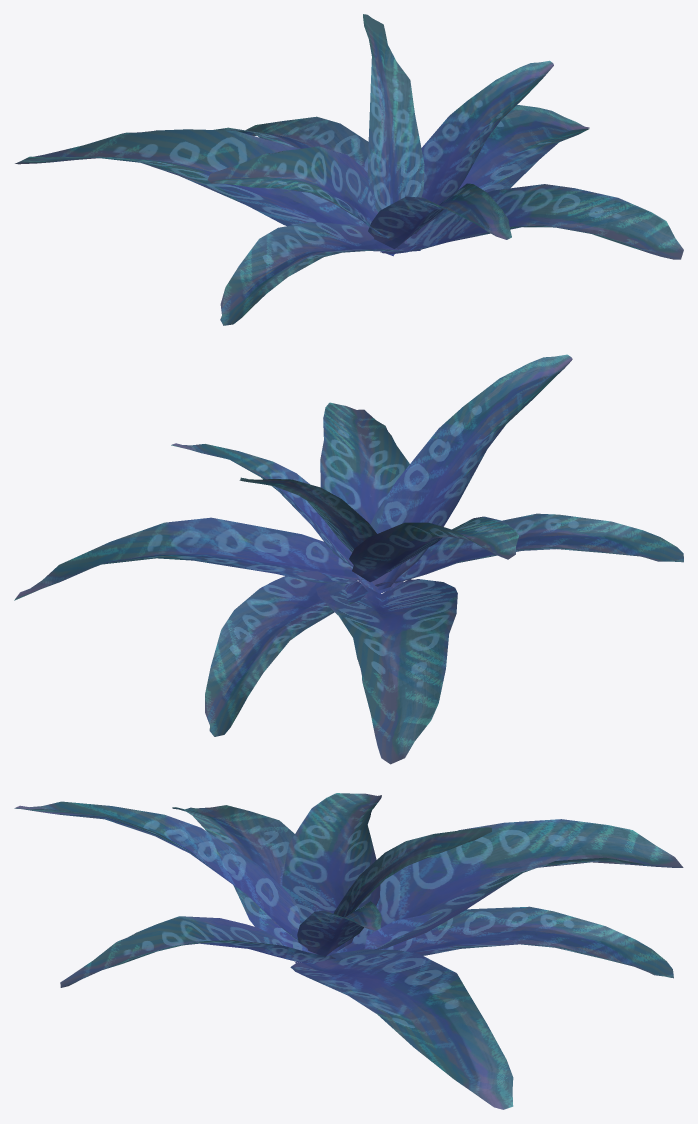
The model's file is touffe_bleu2.fbx.
3 views of the same model, one above another, from view 1: azimuth 30°, elevation 25°; view 2: azimuth 150°, elevation 25°; view 3: azimuth 270°, elevation 25° (orthographic). The views are drawn at different scales.
Visible parts, largest first — view 1: Plane.049, Plane.052, Plane.057, Plane.051, Plane.054, Plane.056, Plane.050, Plane.053, Plane.055; view 2: Plane.049, Plane.053, Plane.050, Plane.055, Plane.052, Plane.051, Plane.056, Plane.054, Plane.057; view 3: Plane.049, Plane.050, Plane.055, Plane.056, Plane.053, Plane.052, Plane.051, Plane.057, Plane.054.
Part boxes in pixels (left/top/right/bottom): Plane.049: left=15, top=129, right=394, bottom=256; Plane.052: left=380, top=184, right=683, bottom=259; Plane.057: left=363, top=14, right=424, bottom=212; Plane.051: left=220, top=222, right=420, bottom=325; Plane.054: left=414, top=60, right=553, bottom=233; Plane.056: left=207, top=146, right=390, bottom=238; Plane.050: left=404, top=104, right=589, bottom=244; Plane.053: left=368, top=183, right=511, bottom=248; Plane.055: left=214, top=116, right=368, bottom=172; Plane.049: left=316, top=578, right=457, bottom=764; Plane.053: left=370, top=354, right=572, bottom=590; Plane.050: left=14, top=517, right=363, bottom=600; Plane.055: left=205, top=571, right=368, bottom=736; Plane.052: left=320, top=402, right=410, bottom=593; Plane.051: left=375, top=513, right=683, bottom=586; Plane.056: left=349, top=516, right=518, bottom=582; Plane.054: left=171, top=443, right=353, bottom=566; Plane.057: left=239, top=477, right=391, bottom=571; Plane.049: left=333, top=819, right=683, bottom=953; Plane.050: left=290, top=949, right=513, bottom=1109; Plane.055: left=364, top=906, right=673, bottom=978; Plane.056: left=282, top=793, right=381, bottom=951; Plane.053: left=14, top=801, right=317, bottom=954; Plane.052: left=60, top=916, right=335, bottom=987; Plane.051: left=172, top=805, right=335, bottom=956; Plane.057: left=333, top=827, right=491, bottom=917; Plane.054: left=297, top=901, right=382, bottom=956.
Bounding box in the file's own units: 290 × 96.22 × 324.
1 material, 1 textured.
